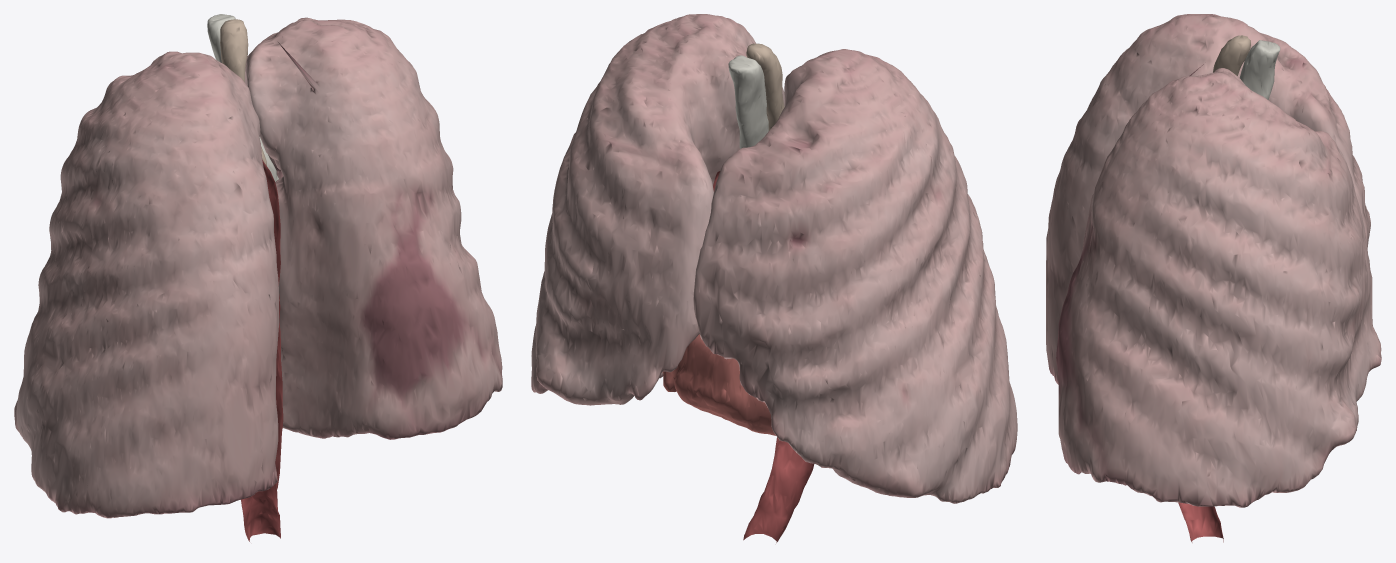
File: torax-completo.glb
3 views of the same model, side by side, from view 1: azimuth 30°, elevation 25°; view 2: azimuth 150°, elevation 25°; view 3: azimuth 270°, elevation 25° (orthographic). The views are drawn at different scales.
Visible parts, largest first — view 1: lung_left, lung_right, aorta, esophagus, trachea; view 2: lung_left, lung_right, heart, aorta, trachea, esophagus; view 3: lung_right, lung_left, trachea, aorta, esophagus.
Part boxes in pixels (<box>): lung_left: <box>14,51,279,518</box>; lung_right: <box>245,17,502,439</box>; aorta: <box>241,159,283,541</box>; esophagus: <box>220,19,266,165</box>; trachea: <box>207,14,278,181</box>; lung_left: <box>693,49,1017,503</box>; lung_right: <box>531,14,784,405</box>; heart: <box>662,334,775,435</box>; aorta: <box>713,171,814,542</box>; trachea: <box>728,55,768,148</box>; esophagus: <box>746,43,784,130</box>; lung_right: <box>1056,64,1381,507</box>; lung_left: <box>1046,14,1370,384</box>; trachea: <box>1239,40,1280,99</box>; aorta: <box>1178,502,1223,542</box>; esophagus: <box>1213,35,1250,75</box>.
Size of the model in its own units: 0.2997 by 0.338 by 0.2065.
